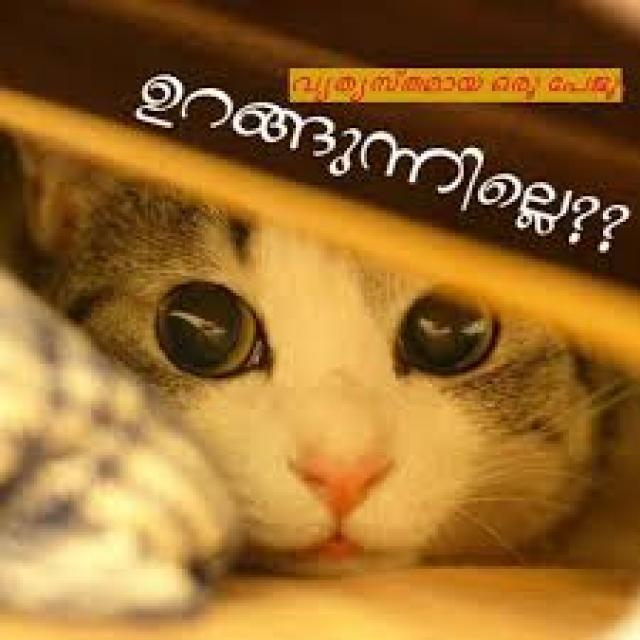Cat: (0, 136, 594, 583)
